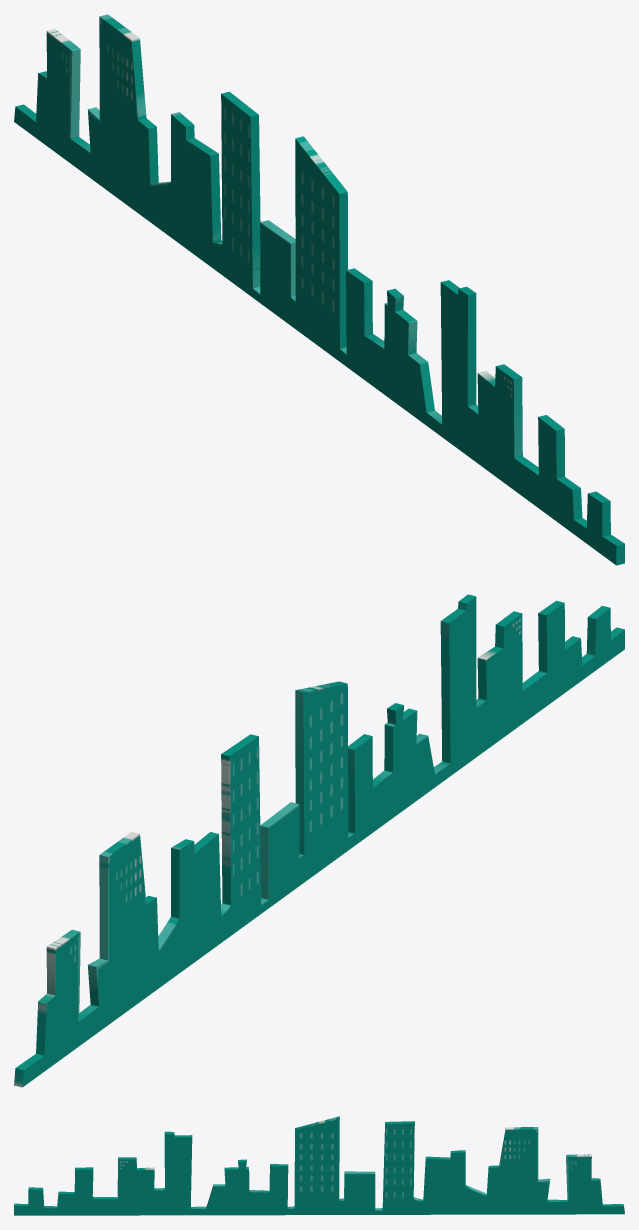
File: greenCityBackdrop.glb
3 renders of one model, top to bottom at view 1: azimuth 30°, elevation 25°; view 2: azimuth 150°, elevation 25°; view 3: azimuth 270°, elevation 25°, orthographic. The views are drawn at different scales.
Parts seen in each view (by area): view 1: 78786; view 2: 78786; view 3: 78786.
Boxes of the visible parts, left/top/right/bottom form: 78786: left=14, top=14, right=624, bottom=565; 78786: left=14, top=594, right=624, bottom=1087; 78786: left=14, top=1116, right=624, bottom=1215.
Bounding box in the file's own units: 0.0106 × 0.23 × 1.31.
1 material, 1 textured.
